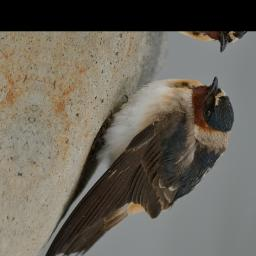Swallow: (39, 50, 243, 256)
